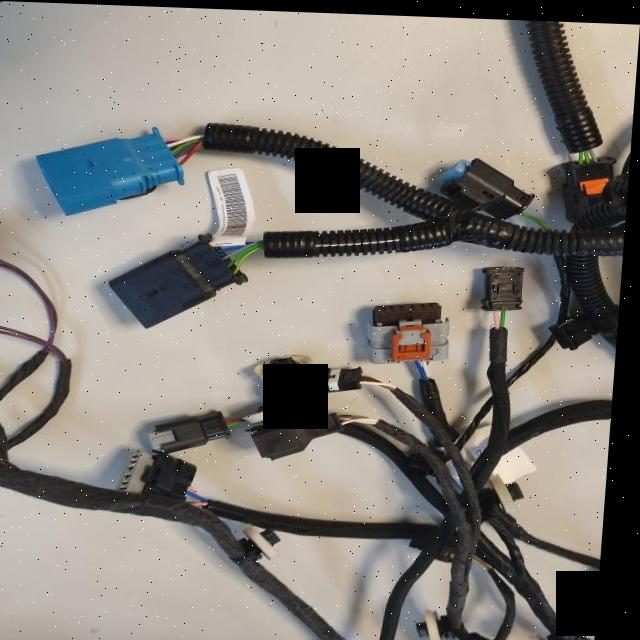cable: (0, 324, 617, 640), (191, 120, 634, 348), (0, 257, 75, 449), (521, 6, 602, 146)
clip: (490, 462, 540, 514), (258, 349, 320, 384), (246, 393, 305, 423), (245, 524, 288, 561)
connector: (37, 116, 189, 221), (111, 224, 252, 334), (436, 143, 539, 231), (367, 296, 457, 361), (152, 403, 236, 456), (124, 446, 205, 499), (564, 152, 617, 217), (485, 262, 527, 307)
